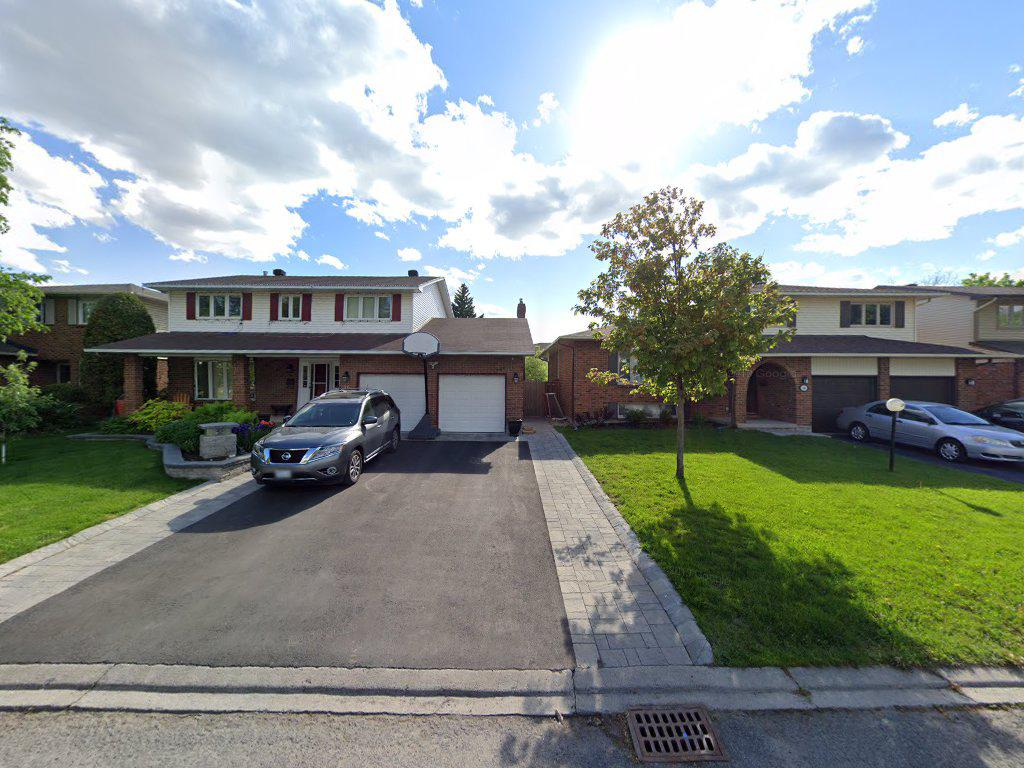trunk: (670, 378, 690, 496)
